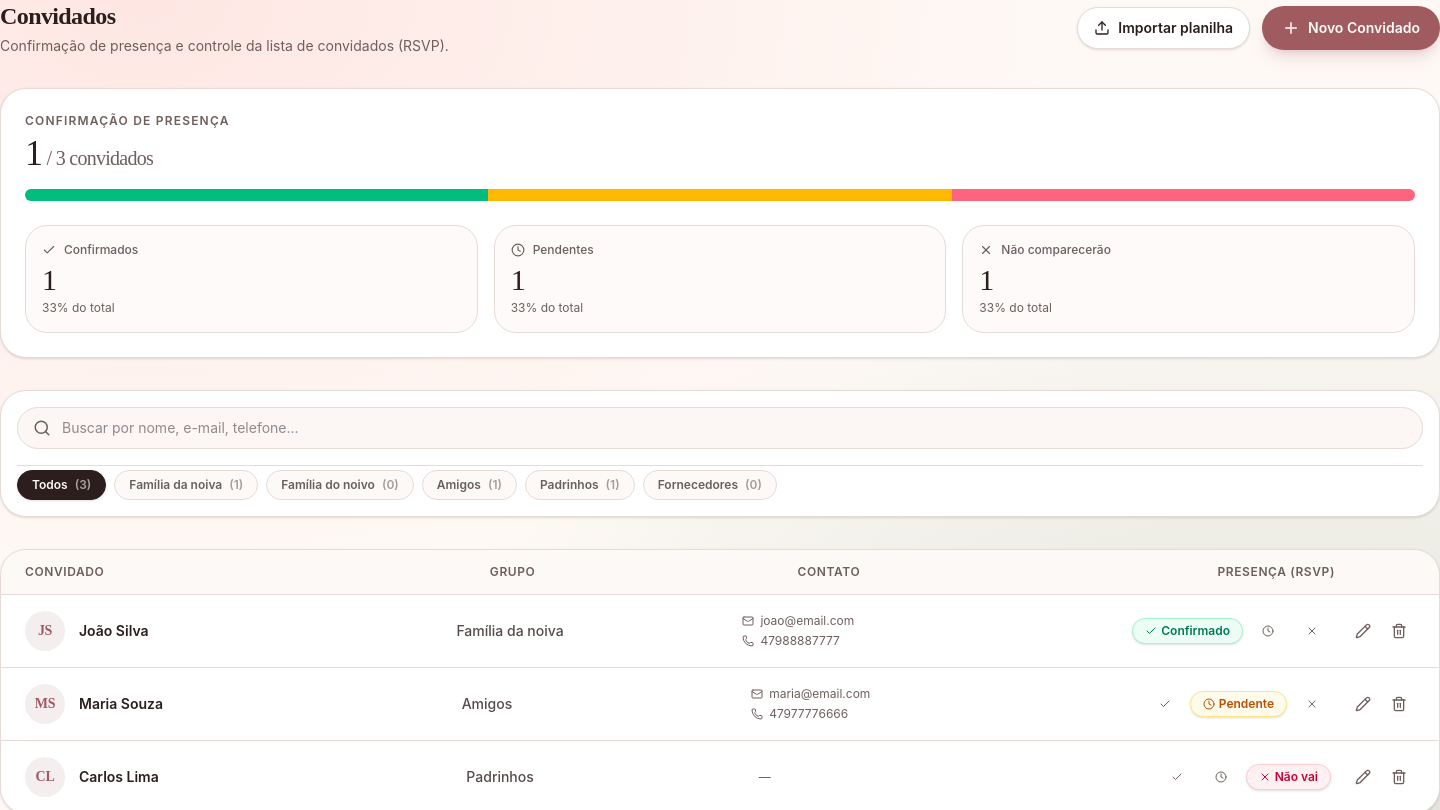
Scenario: ConvidadosPage Component › deve filtrar convidados pelo campo de busca
The width and height of the screenshot is (1440, 810).
Check: the text "João Silva" is shown, box [79,621,149,641]
Check: the text "Maria Souza" is shown, box [79,694,163,714]
Type "Maria" into the field with placeholder "Buscar por nome, e-mail, telefone...". click: (720, 428)
box: [17,407,1423,449]
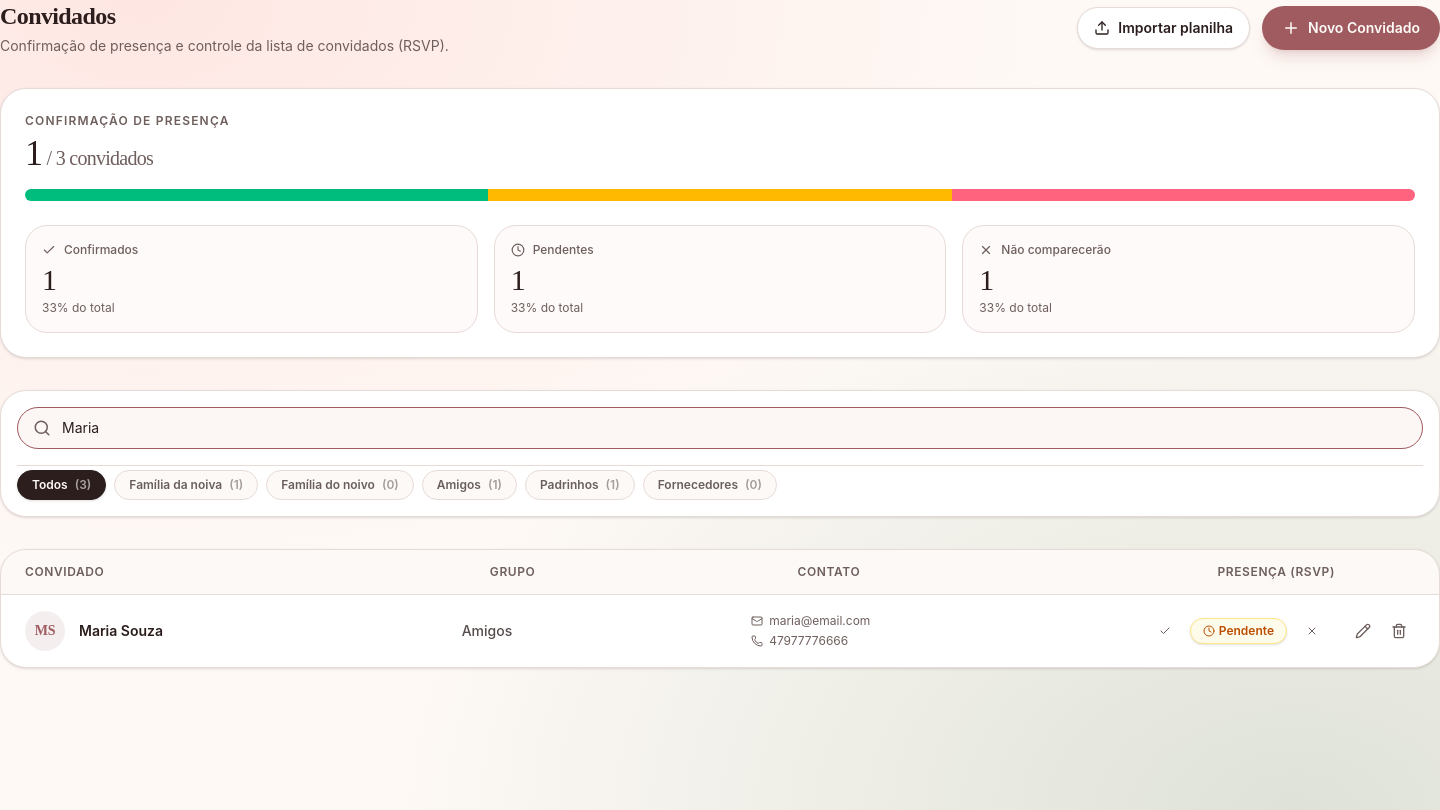
Check: the text "Maria Souza" is shown, box [79,621,163,641]
Check: the text "João Silva" is gone
